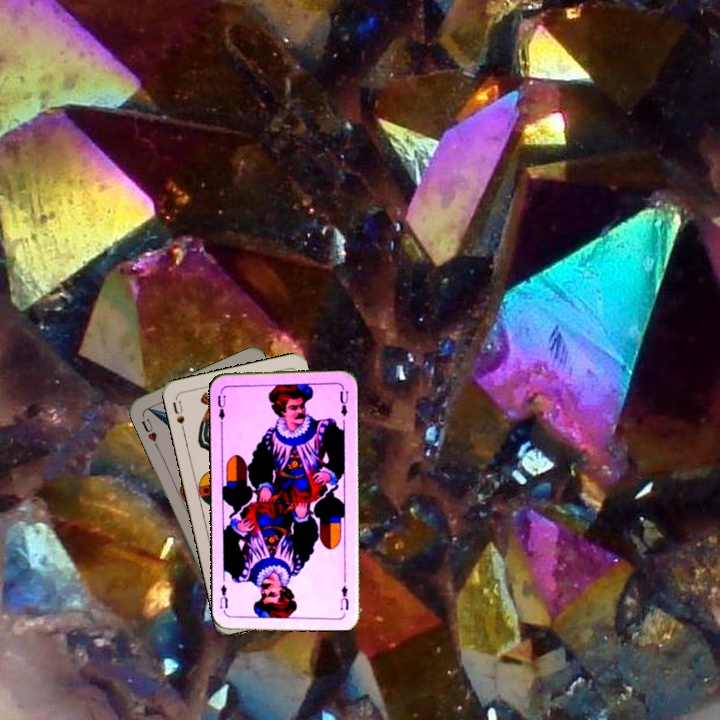EU: (214, 391, 228, 427), (336, 581, 351, 613)
HU: (137, 414, 160, 449)
SU: (169, 395, 187, 435)
